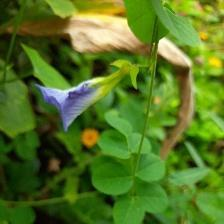shankupushpam: (36, 75, 120, 134)
